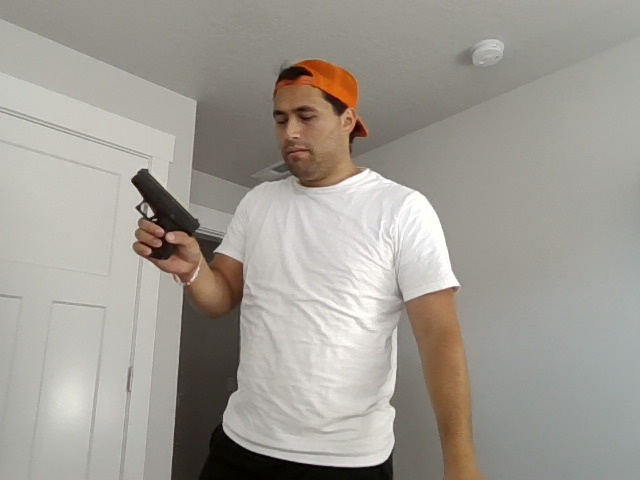handgun: (128, 164, 200, 262)
